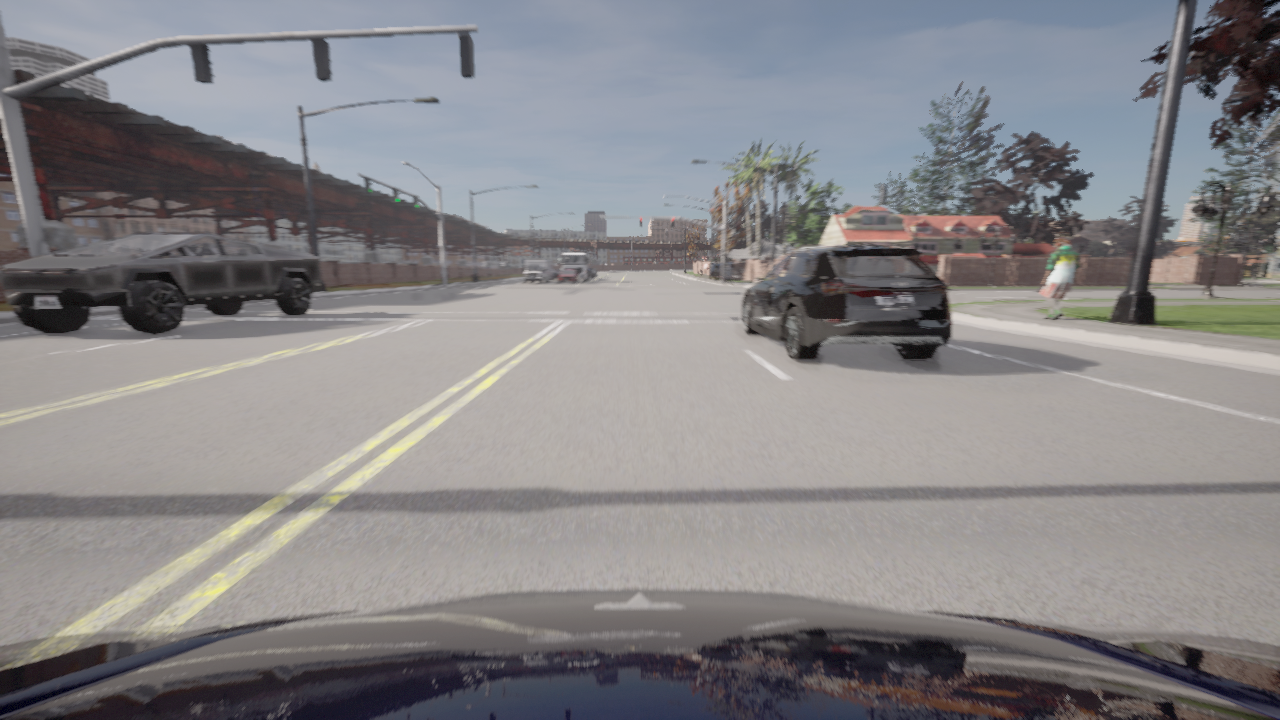cyclist: (0, 588, 1279, 719), (0, 233, 320, 334), (741, 244, 951, 360), (560, 252, 590, 281), (522, 260, 552, 283), (558, 269, 579, 283), (587, 266, 594, 278), (551, 269, 557, 280), (593, 268, 597, 276), (556, 270, 561, 275), (587, 268, 588, 269)
pedestrian: (1039, 239, 1080, 320)
